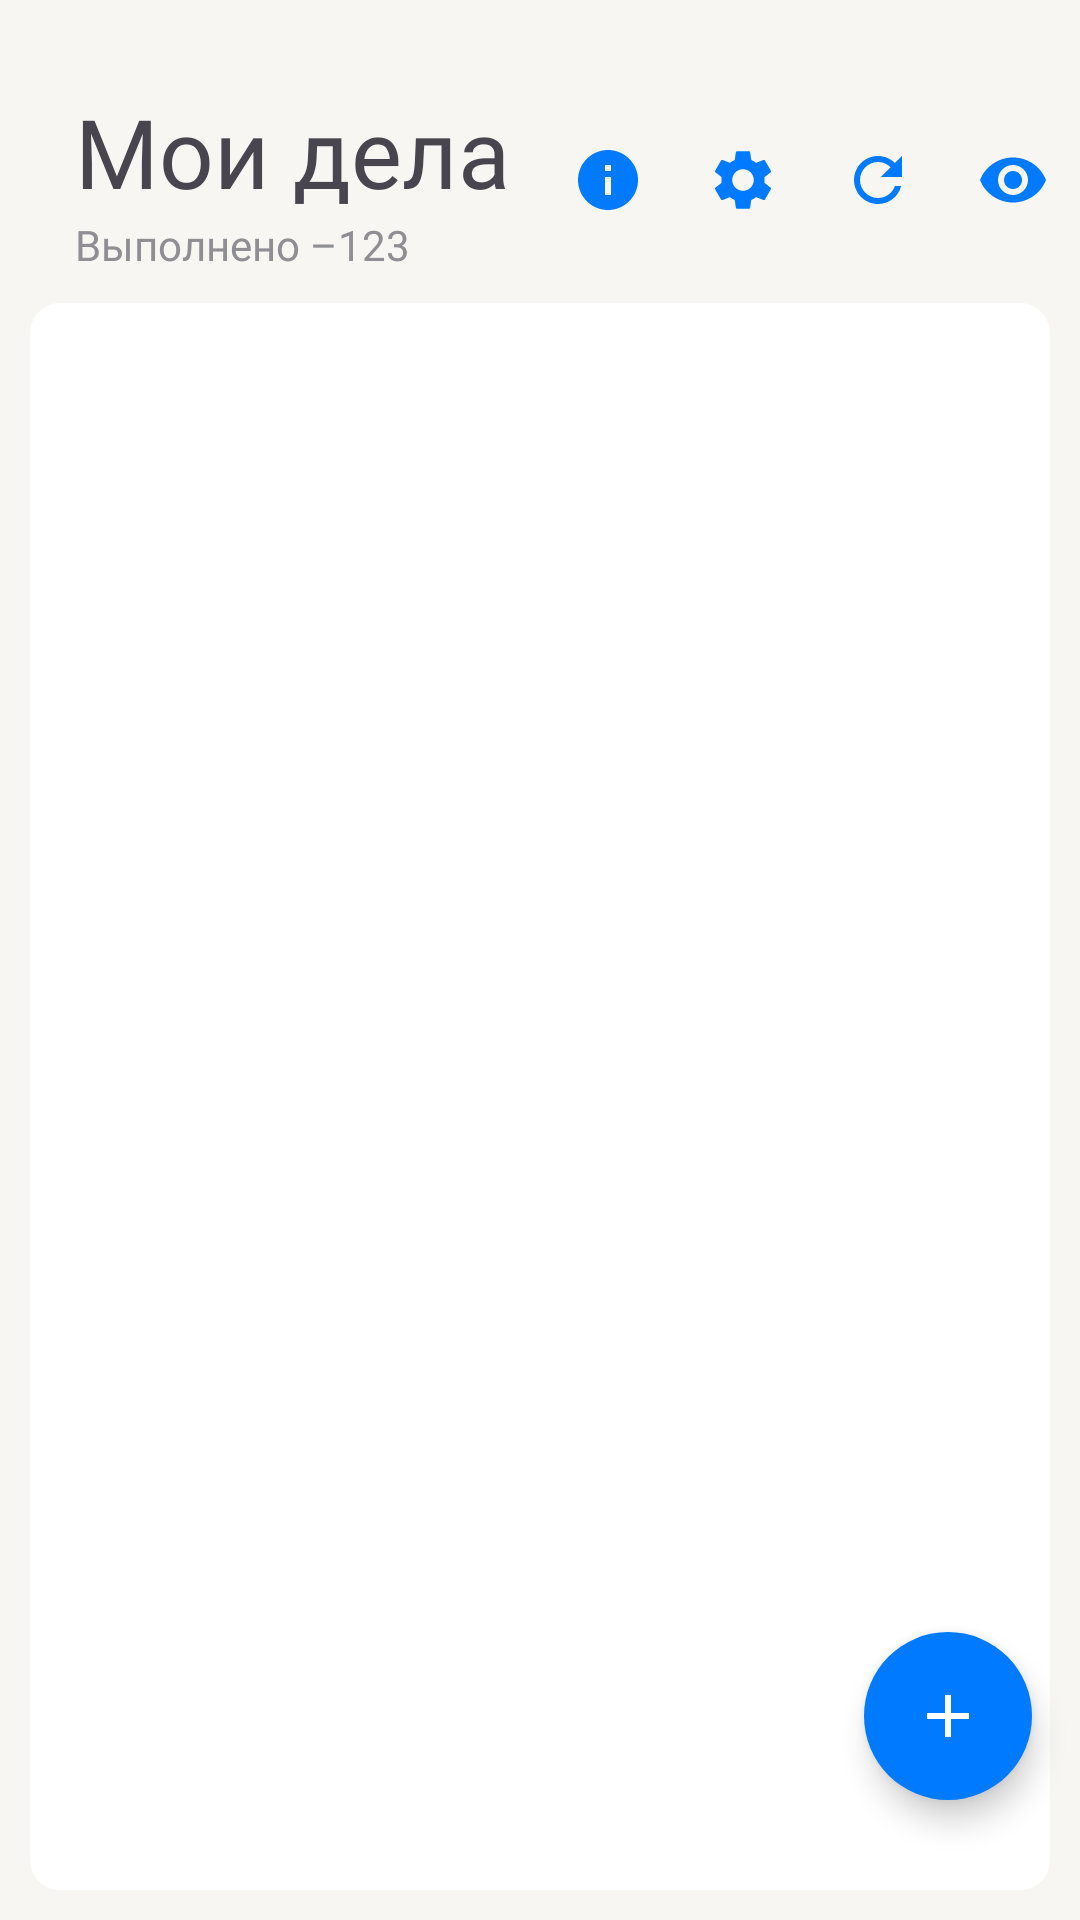

Named icons in this screenshot (1080 x 1920) and their centers, point (x, y):
add: point (948, 1716)
eye on: point (1013, 180)
open about app page button: point (608, 180)
Open theme settings button: point (743, 180)
refresh: point (878, 180)
